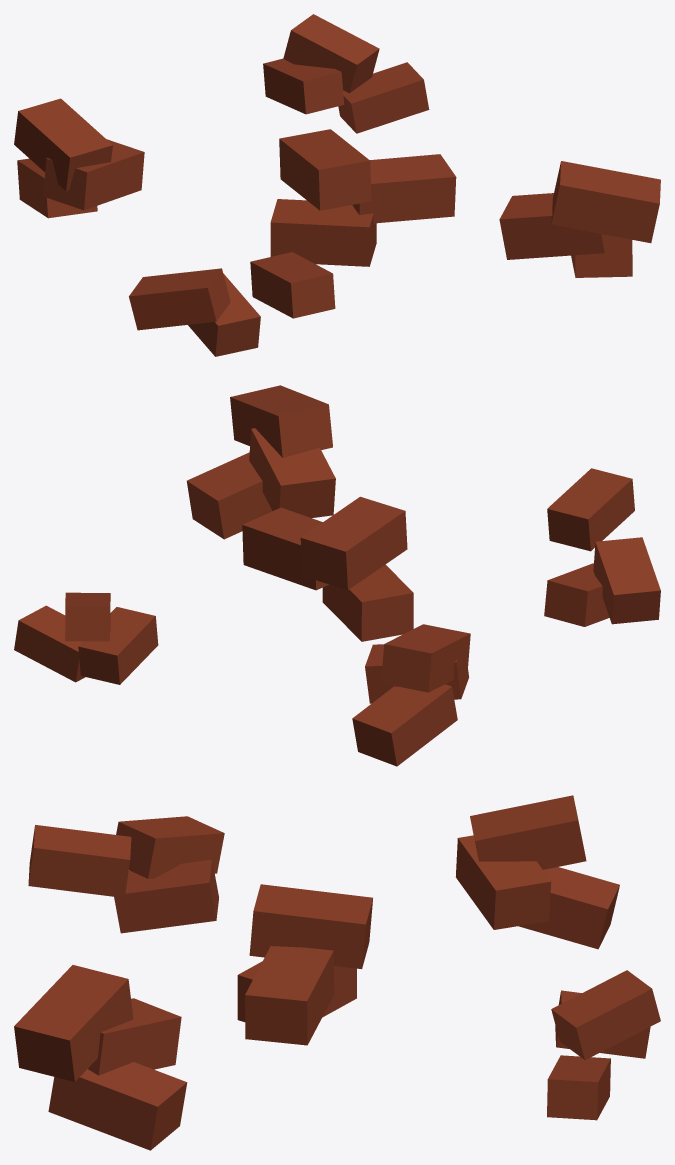
File: iron_ore.glb
3 views of the same model, one above another, from view 1: azimuth 30°, elevation 25°; view 2: azimuth 150°, elevation 25°; view 3: azimuth 270°, elevation 25° (orthographic). The views are drawn at different scales.
Parts seen in each view (by area): view 1: cluster_2__M_Ore_Cinnamon, cluster_4__M_Ore_Cinnamon, cluster_3__M_Ore_Cinnamon, cluster_1__M_Ore_Cinnamon, cluster_0__M_Ore_Cinnamon; view 2: cluster_2__M_Ore_Cinnamon, cluster_4__M_Ore_Cinnamon, cluster_3__M_Ore_Cinnamon, cluster_0__M_Ore_Cinnamon, cluster_1__M_Ore_Cinnamon; view 3: cluster_4__M_Ore_Cinnamon, cluster_0__M_Ore_Cinnamon, cluster_2__M_Ore_Cinnamon, cluster_3__M_Ore_Cinnamon, cluster_1__M_Ore_Cinnamon.
Part boxes in pixels (left/top/right/bottom): cluster_2__M_Ore_Cinnamon: left=270, top=129, right=456, bottom=266; cluster_4__M_Ore_Cinnamon: left=499, top=161, right=660, bottom=277; cluster_3__M_Ore_Cinnamon: left=129, top=252, right=335, bottom=356; cluster_1__M_Ore_Cinnamon: left=263, top=14, right=429, bottom=133; cluster_0__M_Ore_Cinnamon: left=14, top=98, right=144, bottom=218; cluster_2__M_Ore_Cinnamon: left=242, top=496, right=413, bottom=641; cluster_4__M_Ore_Cinnamon: left=186, top=385, right=335, bottom=539; cluster_3__M_Ore_Cinnamon: left=544, top=468, right=660, bottom=626; cluster_0__M_Ore_Cinnamon: left=352, top=624, right=470, bottom=766; cluster_1__M_Ore_Cinnamon: left=14, top=592, right=158, bottom=684; cluster_4__M_Ore_Cinnamon: left=14, top=965, right=187, bottom=1150; cluster_0__M_Ore_Cinnamon: left=456, top=795, right=619, bottom=949; cluster_2__M_Ore_Cinnamon: left=237, top=884, right=372, bottom=1045; cluster_3__M_Ore_Cinnamon: left=28, top=816, right=224, bottom=933; cluster_1__M_Ore_Cinnamon: left=547, top=970, right=660, bottom=1120.
Bounding box in the file's own units: 0.8596 × 0.1928 × 0.8722.
